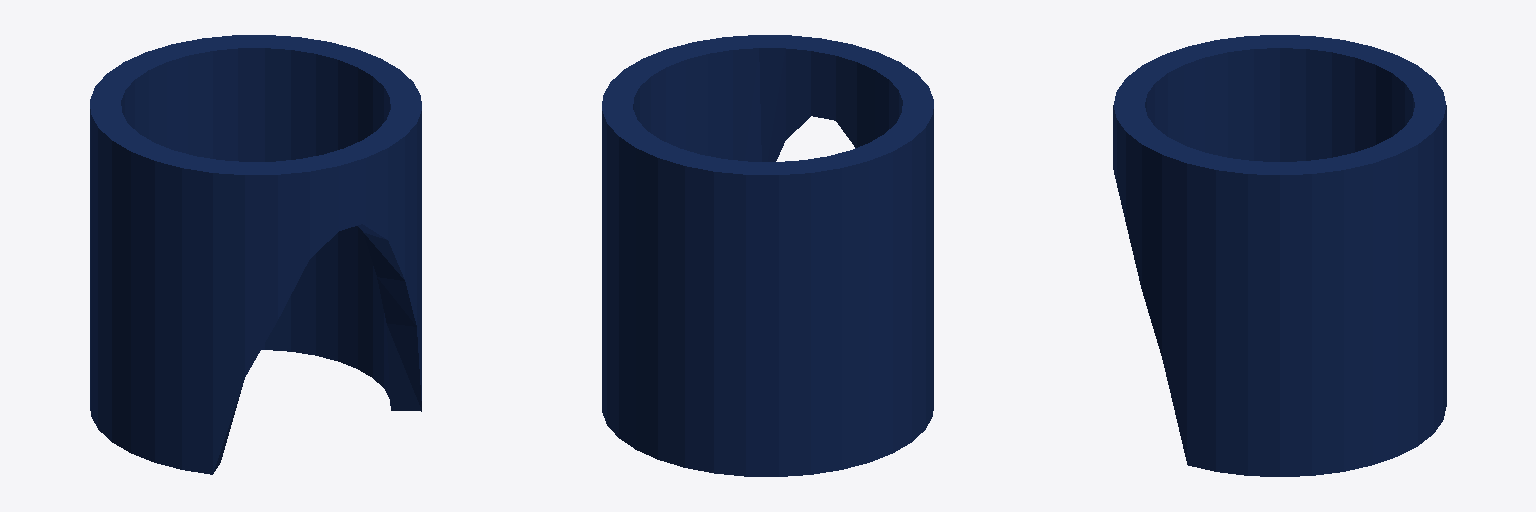
File: Door.obj
3 views of the same model, side by side, from view 1: azimuth 30°, elevation 25°; view 2: azimuth 150°, elevation 25°; view 3: azimuth 270°, elevation 25° (orthographic).
Parts seen in each view (by area): view 1: Cylinder_Cylinder.001; view 2: Cylinder_Cylinder.001; view 3: Cylinder_Cylinder.001.
Part boxes in pixels (bbox=[...]): Cylinder_Cylinder.001: bbox=[90, 35, 421, 474]; Cylinder_Cylinder.001: bbox=[602, 35, 933, 476]; Cylinder_Cylinder.001: bbox=[1113, 35, 1446, 476].
Bounding box in the file's own units: 3.83 × 3.83 × 3.83.